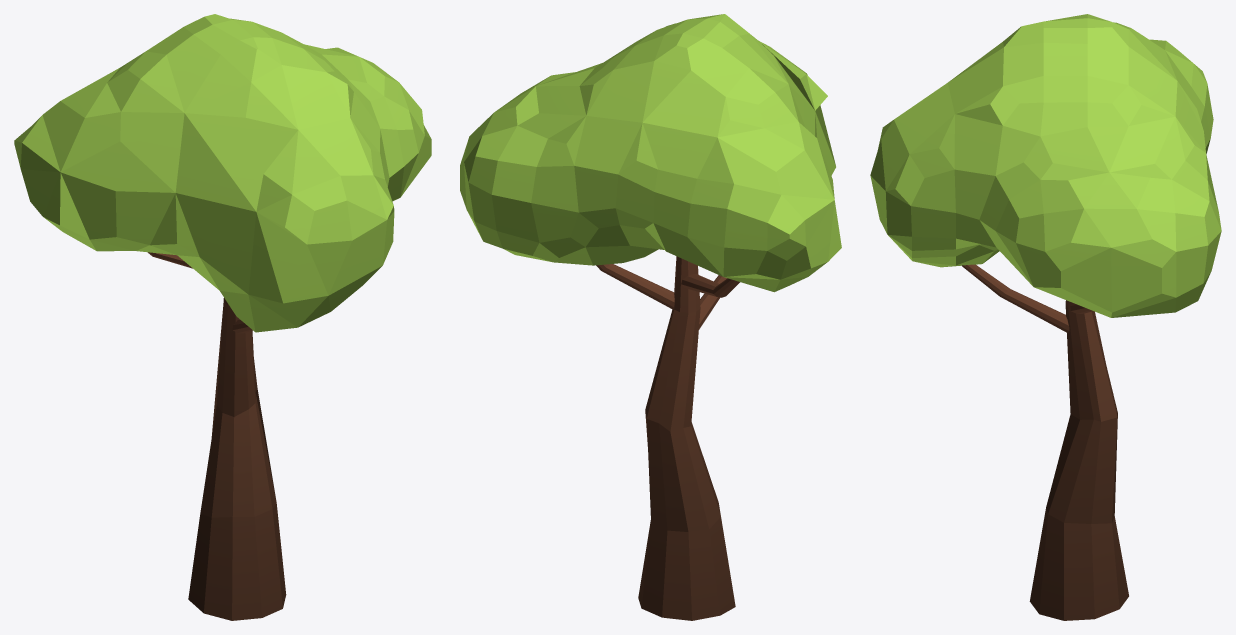
Rendered from Tree.fbx.
3 renders of one model, left to right at view 1: azimuth 30°, elevation 25°; view 2: azimuth 150°, elevation 25°; view 3: azimuth 270°, elevation 25°, orthographic.
Parts seen in each view (by area): view 1: Cylinder; view 2: Cylinder; view 3: Cylinder.
Part boxes in pixels (bbox=[...]): Cylinder: bbox=[14, 14, 431, 620]; Cylinder: bbox=[460, 14, 841, 620]; Cylinder: bbox=[870, 14, 1221, 620].
Size of the model in its own units: 381 by 593 by 329.
